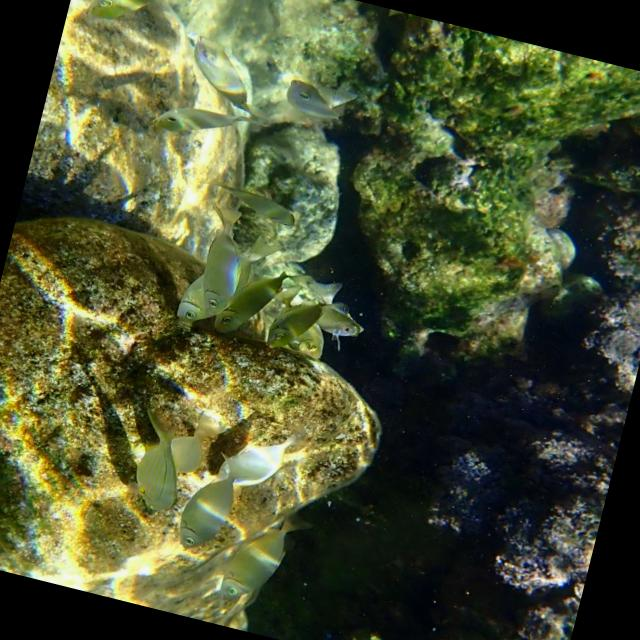Sokar Baligi: (207, 491, 324, 624), (176, 191, 258, 317)
